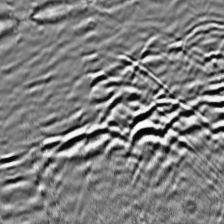cavities: (46, 73, 223, 165)
